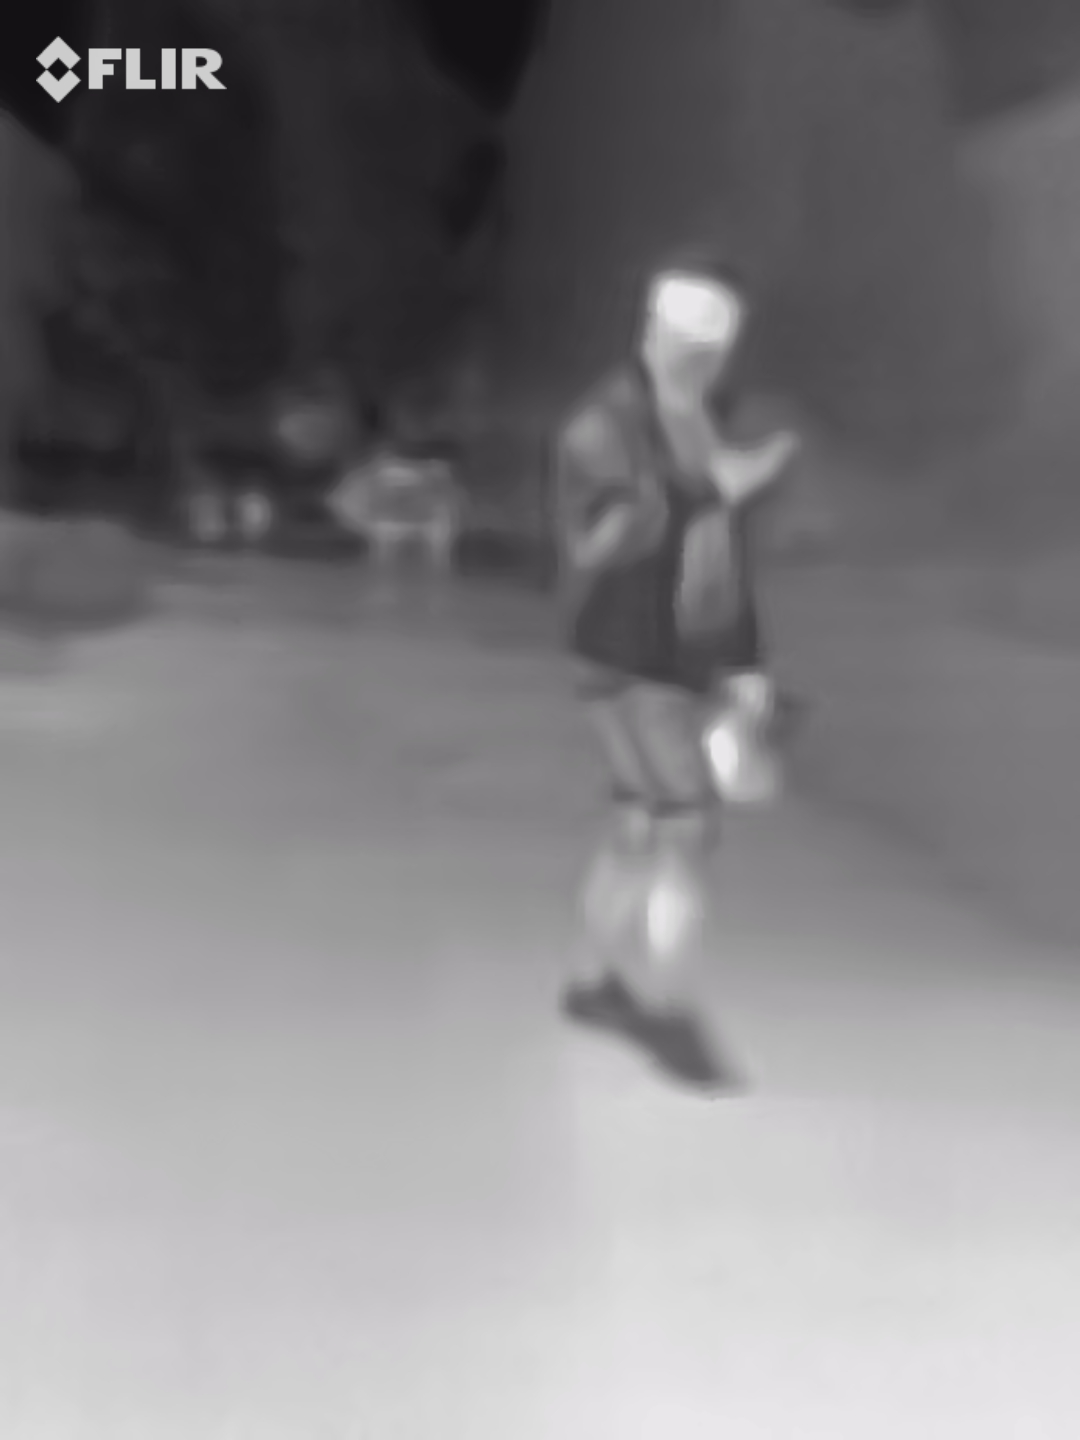head: (639, 259, 748, 403)
